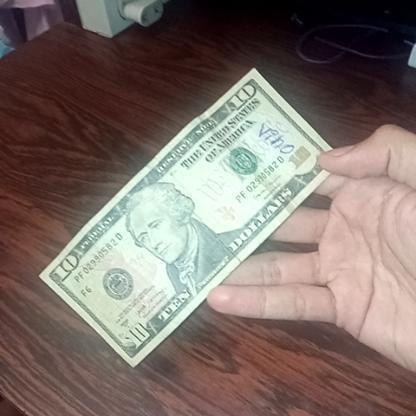dollar_front: (32, 64, 348, 370)
